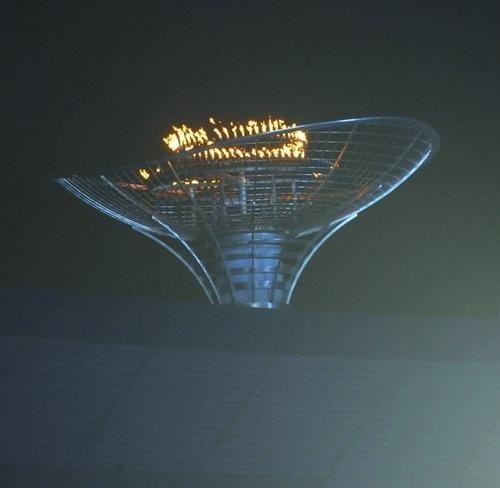fire: (155, 114, 312, 157), (123, 162, 227, 194)
